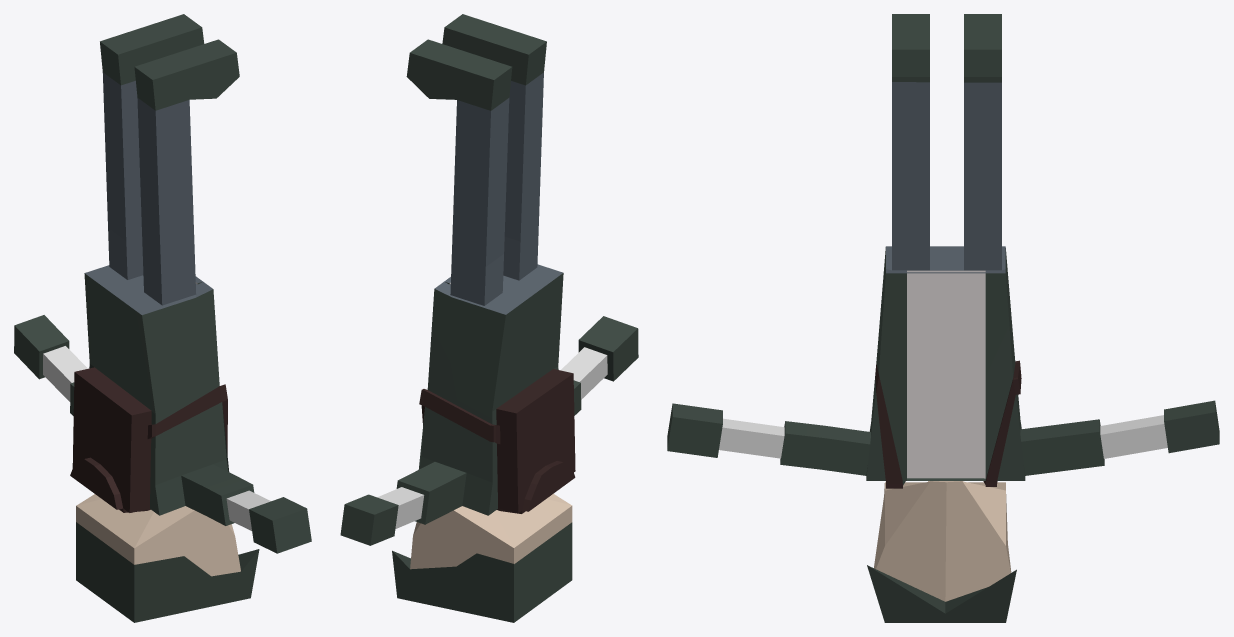
The model's file is Char 2.fbx.
3 views of the same model, side by side, from view 1: azimuth 30°, elevation 25°; view 2: azimuth 150°, elevation 25°; view 3: azimuth 270°, elevation 25° (orthographic). The views are drawn at different scales.
Parts seen in each view (by area): view 1: Char_2; view 2: Char_2; view 3: Char_2.
Boxes of the visible parts, x1,y1,x2,y2 form: Char_2: (14,14,311,622); Char_2: (340,14,638,622); Char_2: (667,14,1219,622).
Bounding box in the file's own units: 0.155 × 0.592 × 0.522.
1 material, 1 textured.
